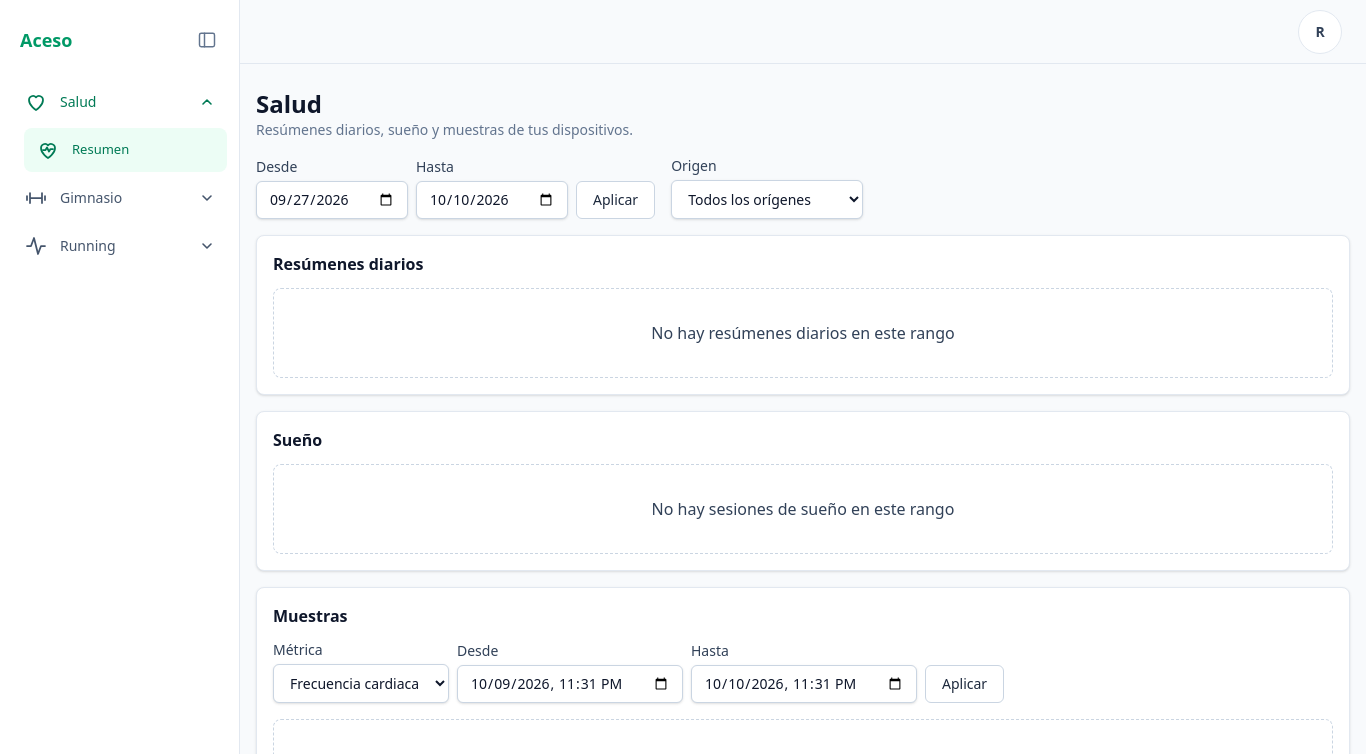
AppShell navigation › collapsing the sidebar hides groups; clicking a section re-expands it with that group open
Expected: the link "Resumen" is shown, [24, 128, 227, 172]
Click the button named "Contraer menú lateral". click: click(207, 40)
box: [187, 20, 227, 60]
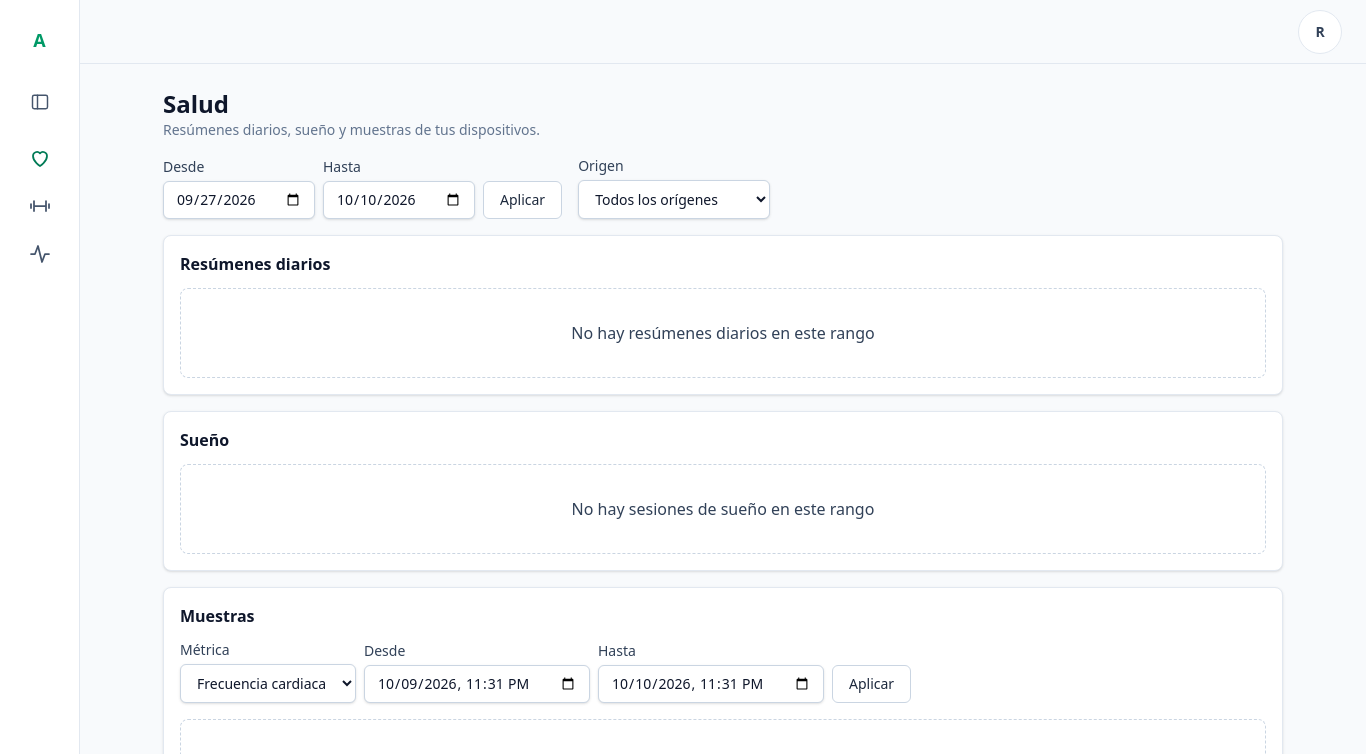
Expected: the link "Resumen" is gone
Click the button named "Desplegar Running". click: click(40, 254)
box: [12, 232, 67, 276]
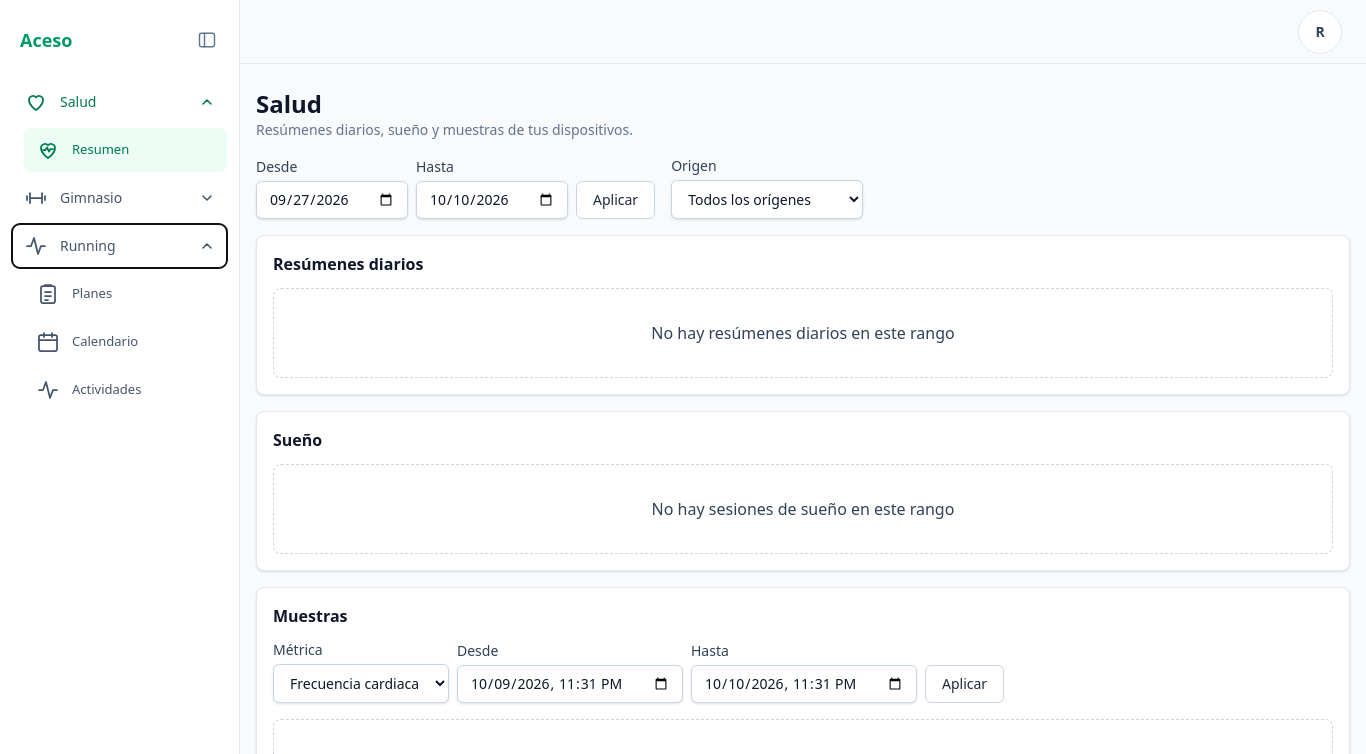
Expected: the button named "Contraer menú lateral" is shown, [187, 20, 227, 60]
Expected: the button "Running" is expanded, [12, 224, 227, 268]
Expected: the link "Planes" is shown, [36, 282, 112, 306]
